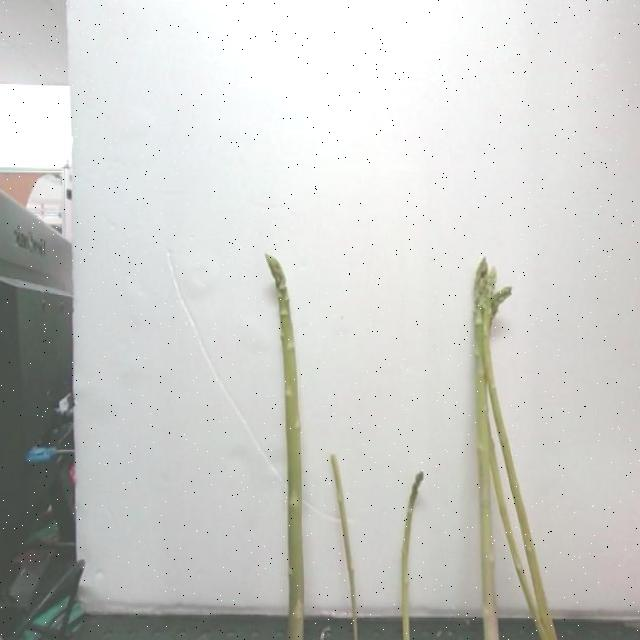aspargus: (266, 256, 306, 640), (472, 259, 502, 640), (400, 472, 425, 640)
